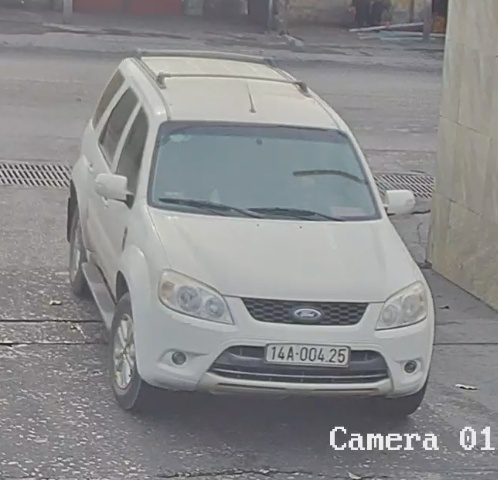vehicle plate: (260, 335, 352, 371)
